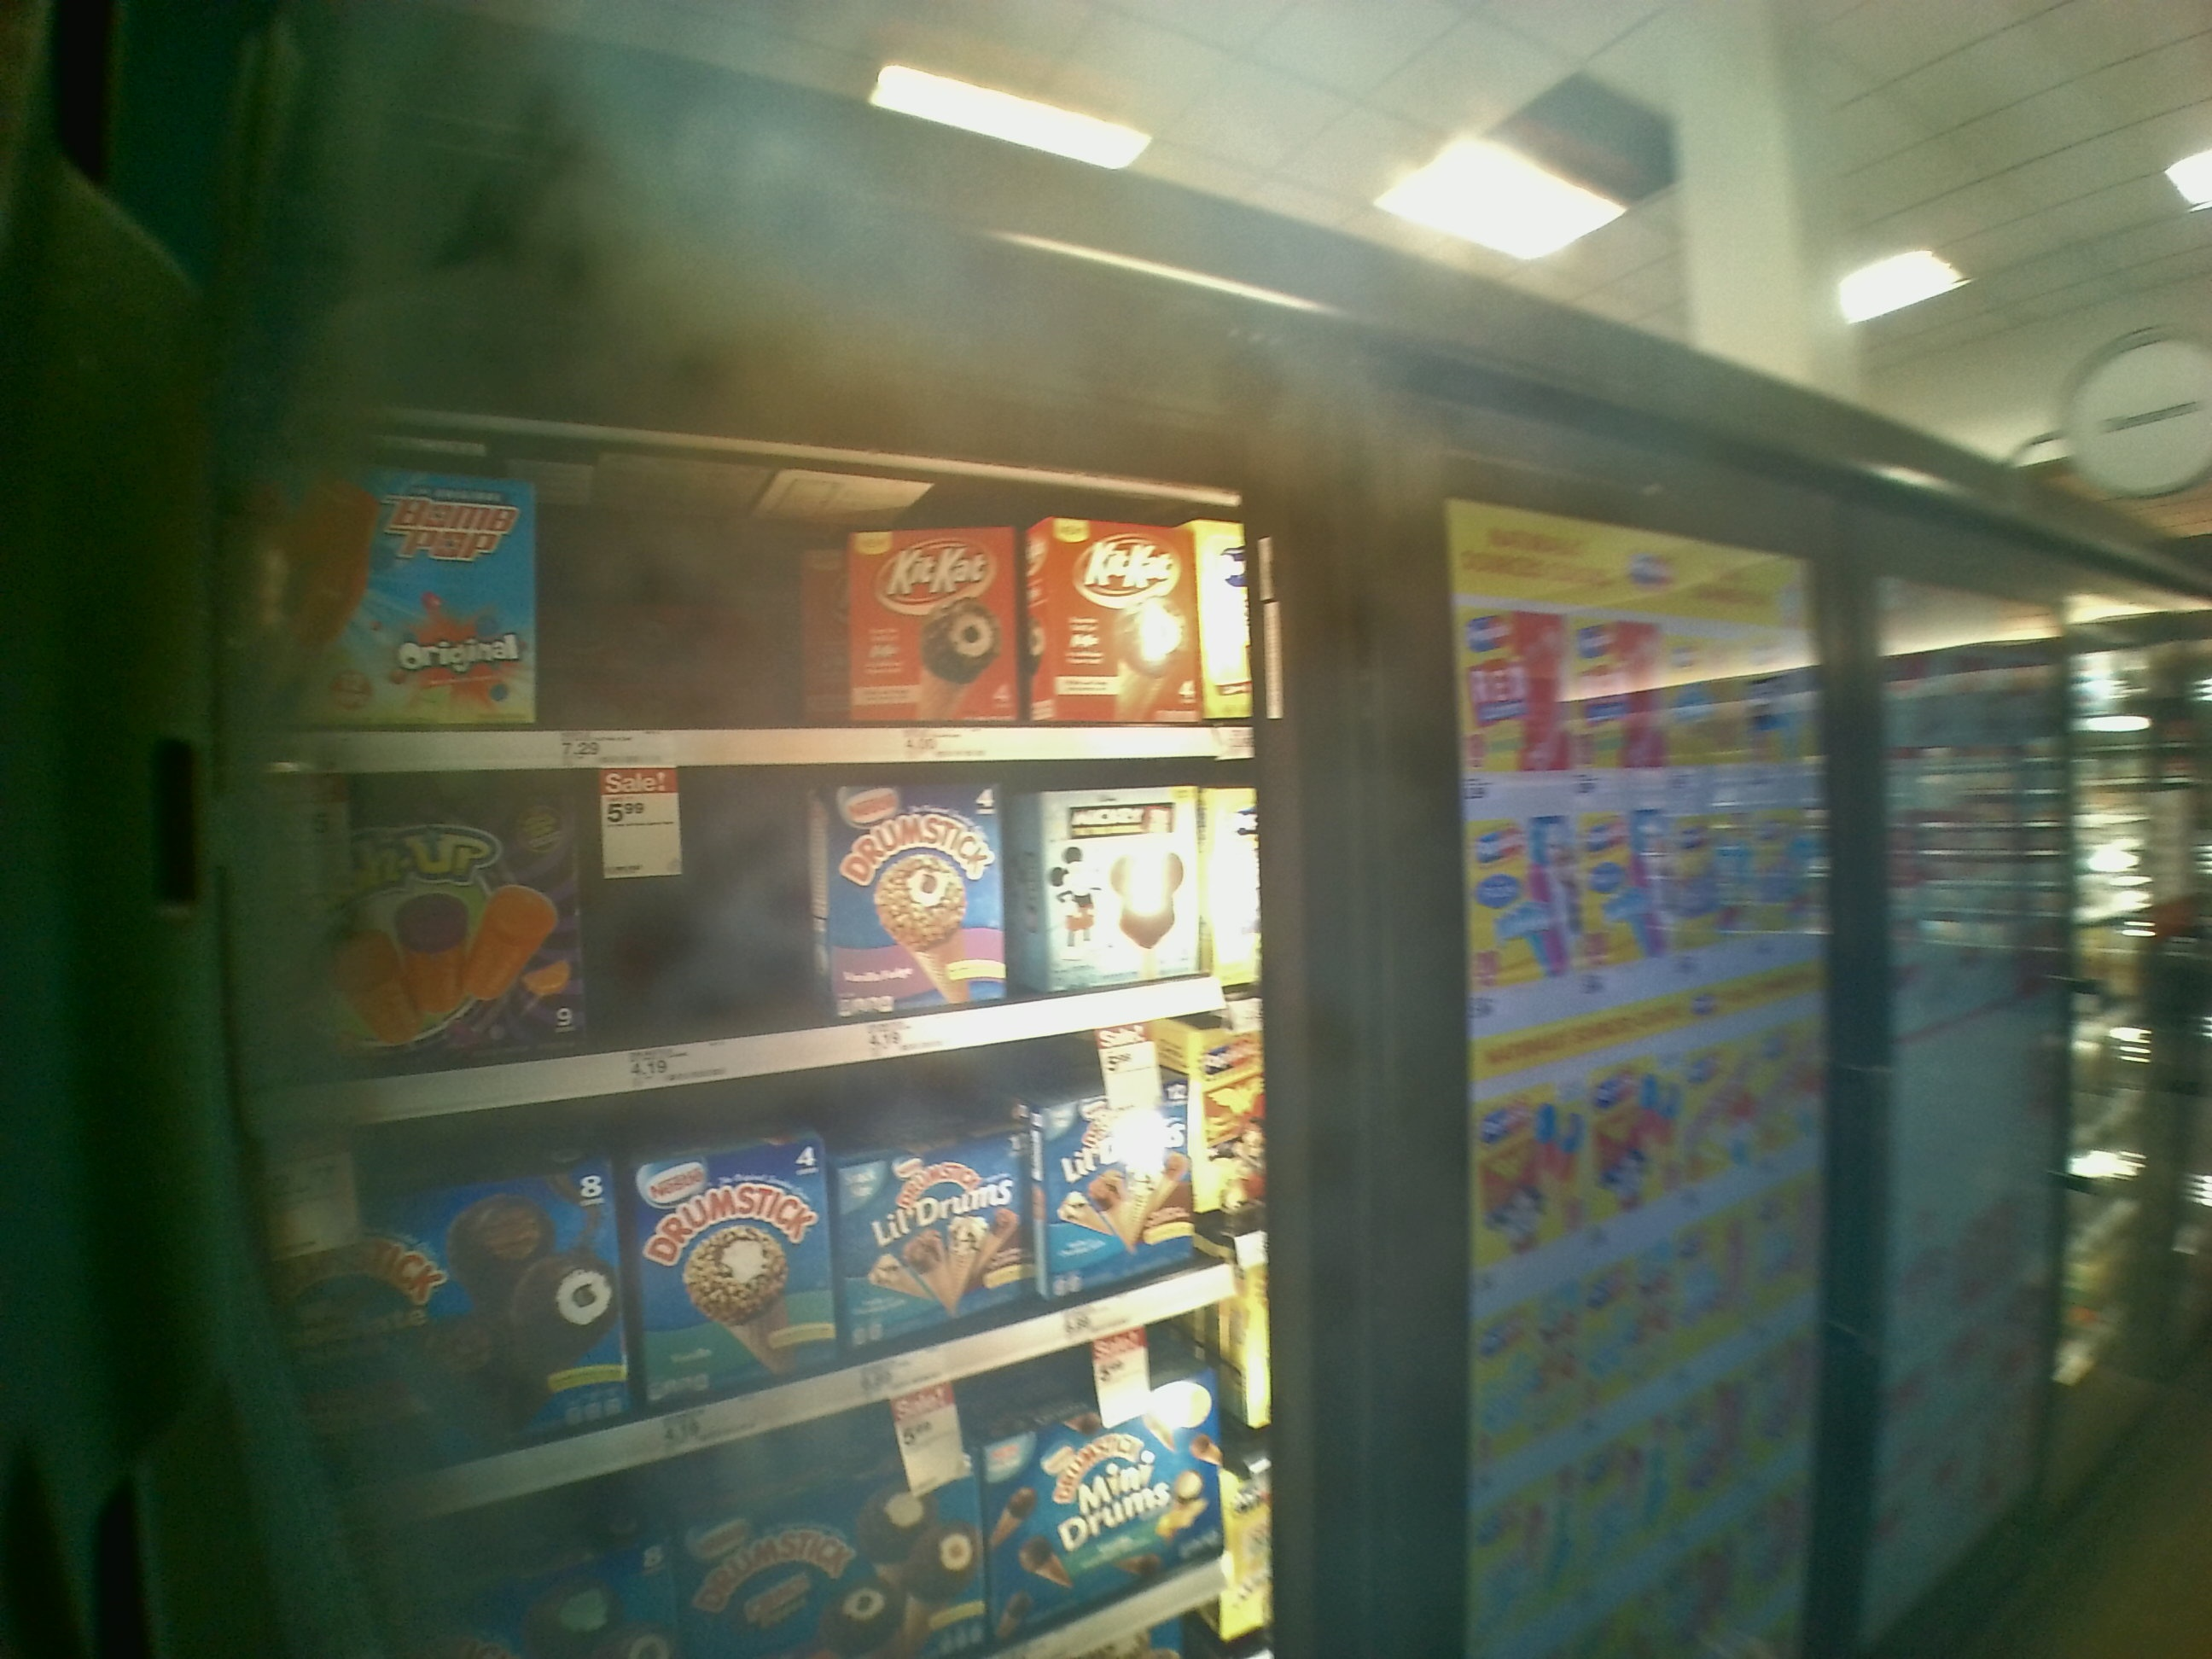shelf: (258, 1004, 1270, 1525), (254, 762, 1268, 1110), (254, 425, 1277, 769)
